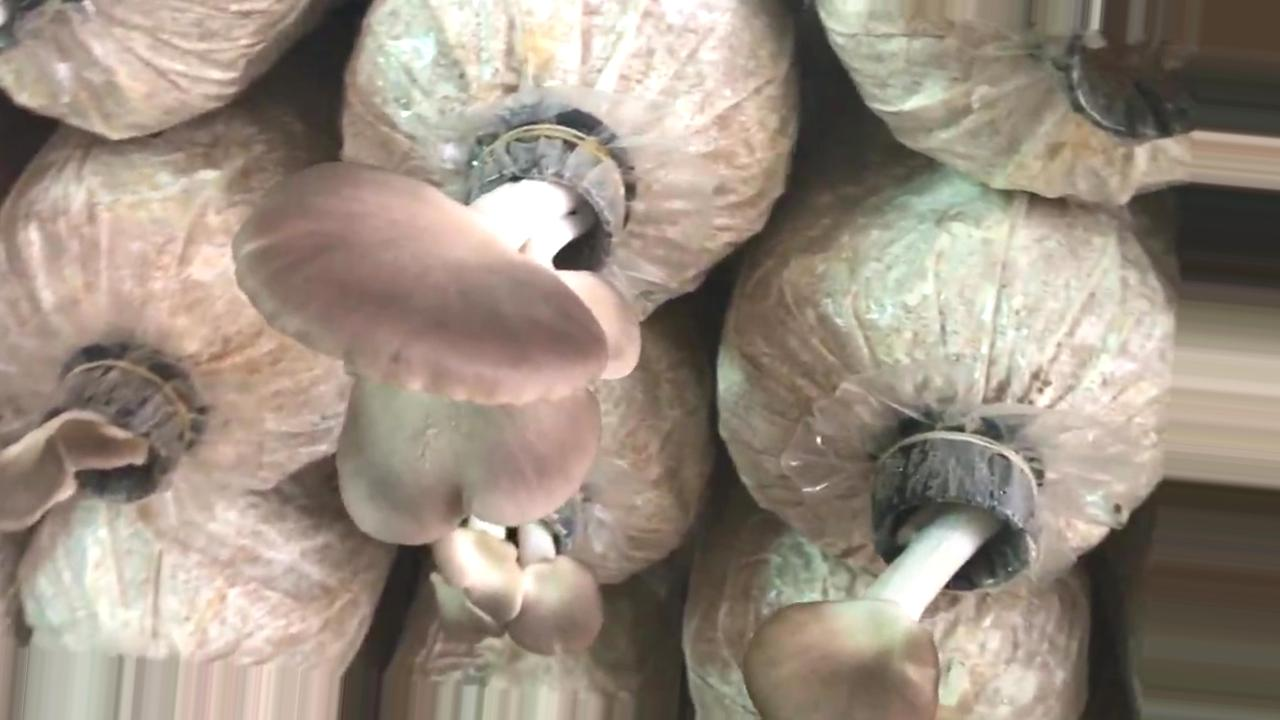nam: (234, 129, 639, 545), (742, 434, 1041, 719), (1, 358, 191, 534), (438, 498, 602, 655)
